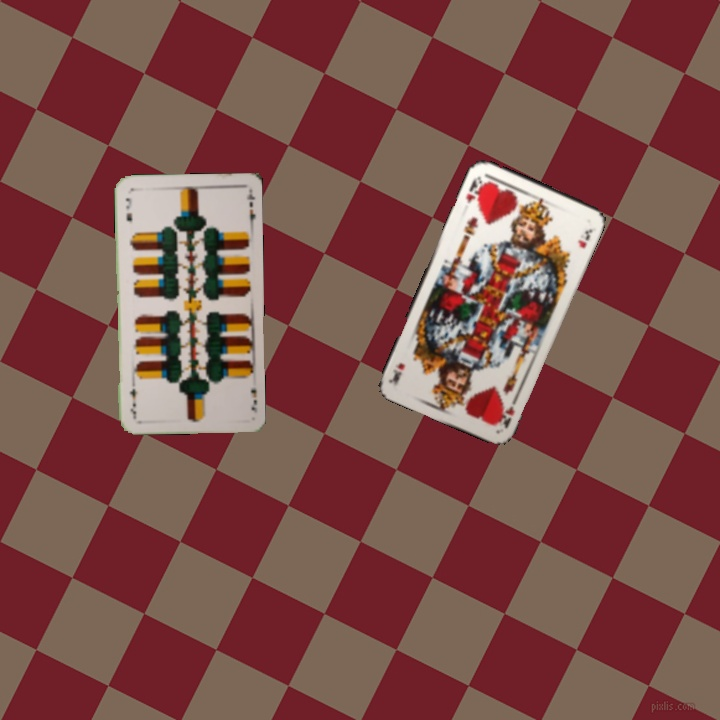E7: (122, 194, 135, 224), (247, 385, 260, 415)
HK: (496, 392, 521, 431), (461, 172, 487, 206)
